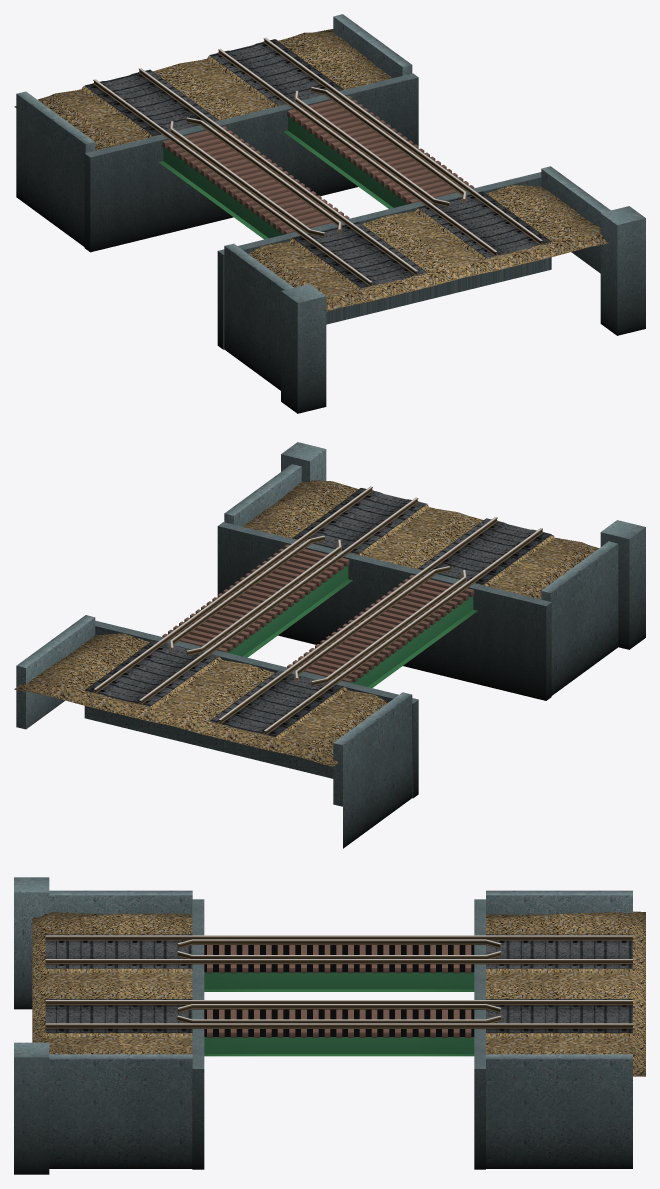
The model's file is 2RAIL50_TEKKYOU.glb.
3 views of the same model, one above another, from view 1: azimuth 30°, elevation 25°; view 2: azimuth 150°, elevation 25°; view 3: azimuth 270°, elevation 25° (orthographic). The views are drawn at different scales.
Visible parts, largest first — view 1: Rail, obj11, obj3, obj2, obj6, obj18, obj12, obj4, obj25; view 2: obj11, Rail, obj2, obj6, obj3, obj18, obj12, obj25, obj4; view 3: Rail, obj11, obj2, obj6, obj3, obj18, obj12, obj4, obj25.
Boxes of the visible parts, x1,y1,x2,y2 form: Rail: (14,14,418,252); obj11: (217,166,610,390); obj3: (281,206,645,413); obj2: (159,87,466,239); obj6: (93,37,543,285); obj18: (223,140,446,217); obj12: (190,116,407,188); obj4: (162,95,374,164); obj25: (262,169,474,234); obj11: (217,464,618,700); Rail: (14,615,418,848); obj2: (169,535,477,687); obj6: (93,486,543,734); obj3: (281,442,645,649); obj18: (223,564,446,641); obj12: (190,593,407,665); obj25: (262,544,474,613); obj4: (162,617,374,682); Rail: (474,890,645,1169); obj11: (32,890,204,1169); obj2: (176,939,501,1056); obj6: (45,935,632,1028); obj3: (14,877,49,1174); obj18: (266,945,342,1037); obj12: (348,945,412,1037); obj4: (418,945,471,1037); obj25: (207,945,259,1037).
Bounding box in the file's own units: 36.28 × 11.02 × 53.82.
13 materials, 7 textured.
